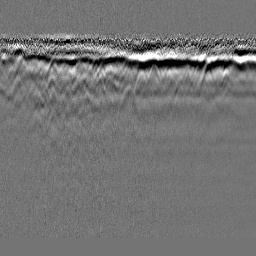cavity: (116, 84, 141, 121)
